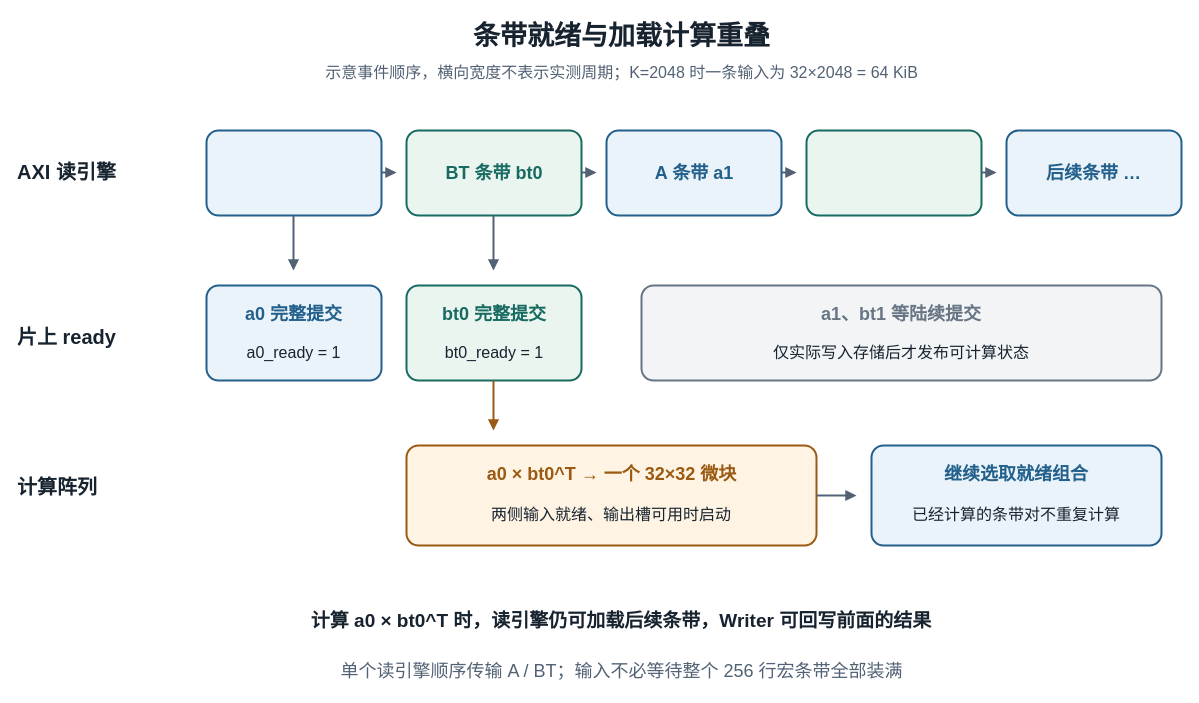
Some shapes in this 1199 by 703 pixel diagram are drawn without their labels. Here are the shapes that lost their labels. From the top down, the centre of each, then its label:
[293,172]: A 条带 a0
[893,172]: BT 条带 bt1
